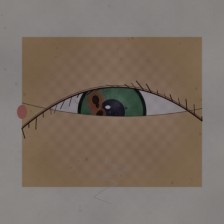foreign_body_visible: (72, 81, 119, 119)
